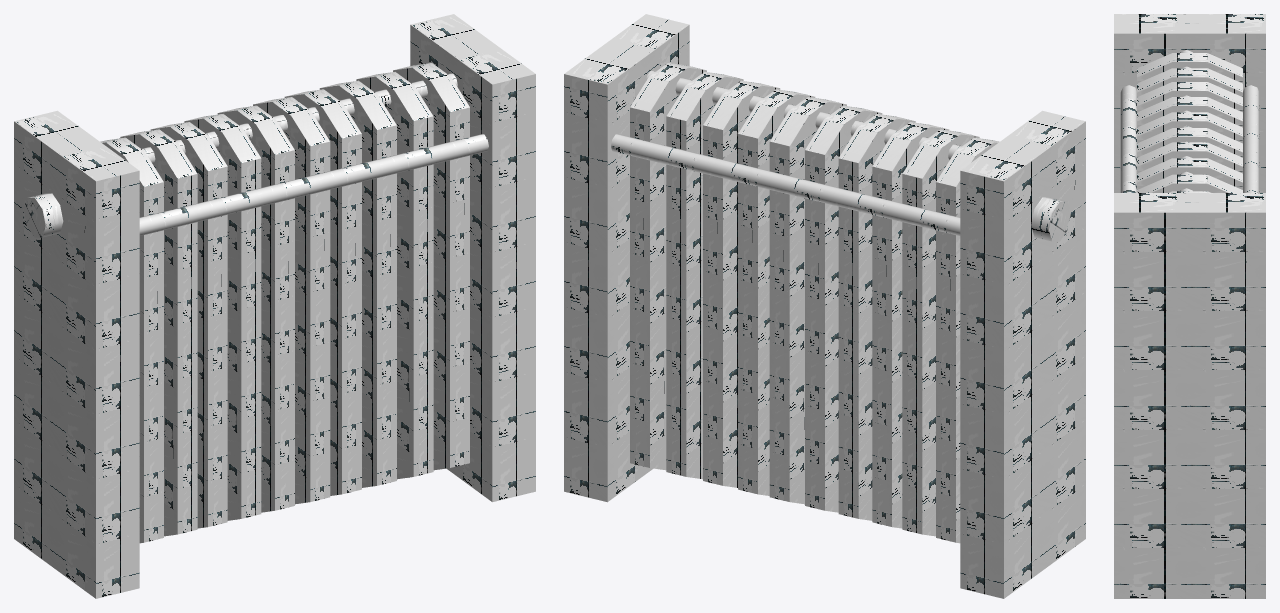
Rendered from Radiator.FBX.
3 renders of one model, left to right at view 1: azimuth 30°, elevation 25°; view 2: azimuth 150°, elevation 25°; view 3: azimuth 270°, elevation 25°, orthographic. The views are drawn at different scales.
Visible parts, largest first — view 1: Radiator; view 2: Radiator; view 3: Radiator.
Part boxes in pixels (x1,y1,x2,y2): Radiator: [14, 14, 535, 598]; Radiator: [564, 14, 1085, 598]; Radiator: [1114, 14, 1265, 598].
Bounding box in the file's own units: 1.72 × 0.5329 × 1.5.
Materials: 1 (1 with a texture image).
